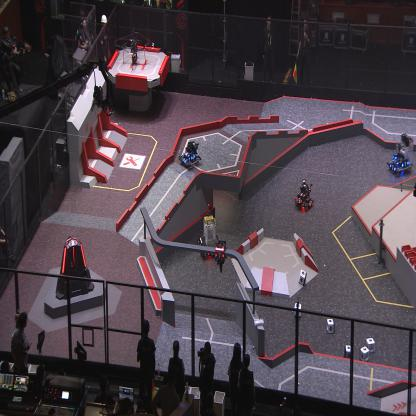car: (386, 131, 414, 176), (198, 214, 221, 260), (178, 140, 202, 170), (294, 178, 314, 213)
